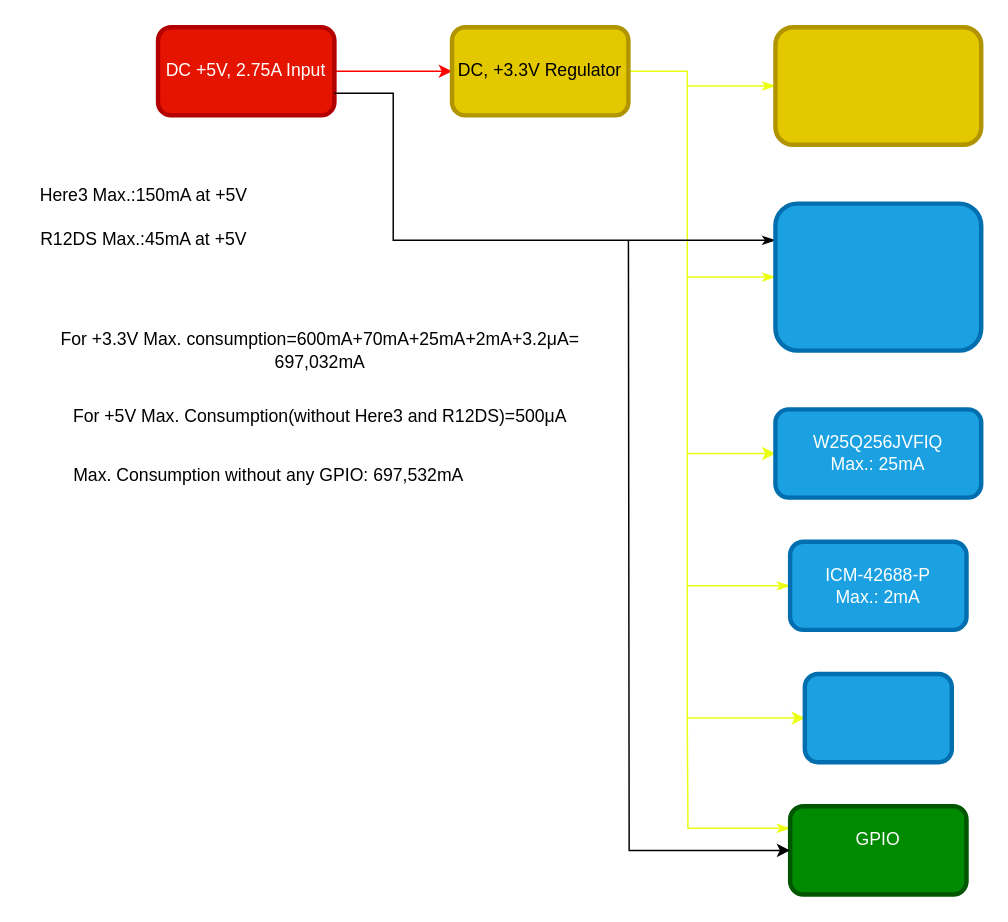
Some shapes in this 1008 by 922 pixel diagram are drawn without their labels. Here are the shapes that lost their labels. From the top down, the box of each, then its label:
(772, 24, 983, 146): STM32H723VET6 Max.: 600mA
(772, 201, 983, 352): CAN Transciever MCP2562FDT-E/SN Max.:70mA at VDD Max.: 500μA at VDDIO
(802, 671, 953, 764): BMP390 Max.:3.2 μA
